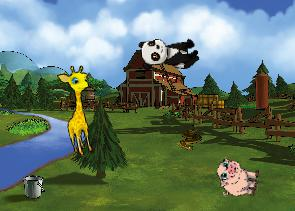giraffe: (55, 63, 104, 157)
panda: (138, 35, 200, 71)
pig: (214, 156, 261, 200)
